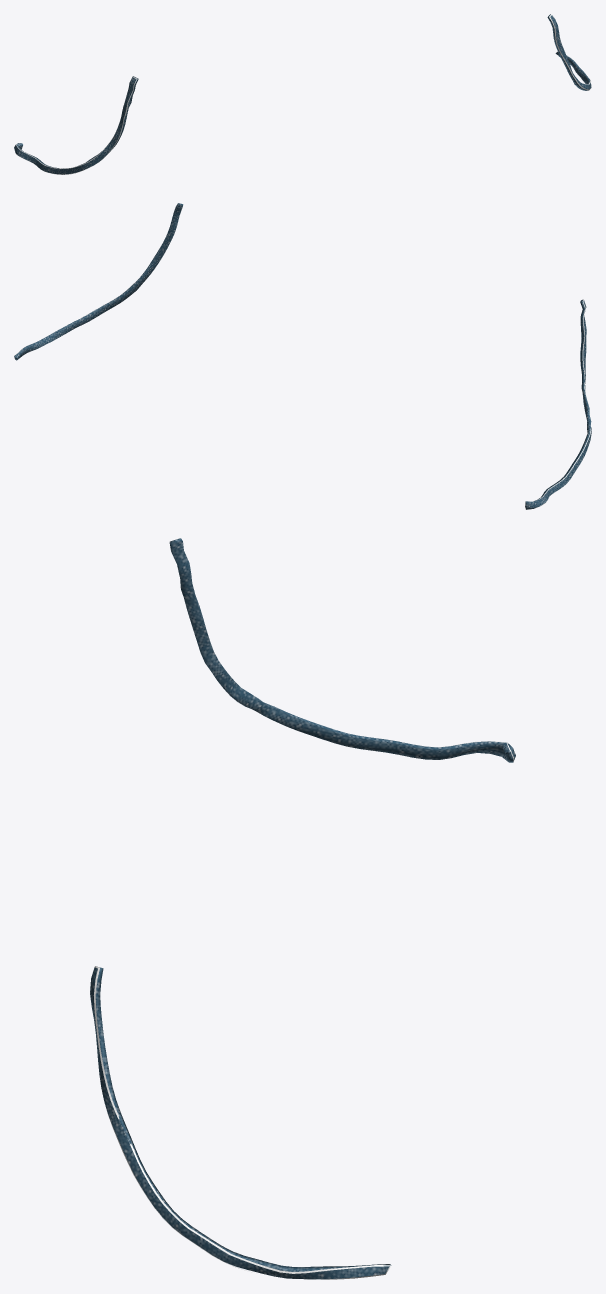
The model's file is Pants_Pocket_TOP.glb.
The picture shows the model from 3 angles, top to bottom: view 1: azimuth 30°, elevation 25°; view 2: azimuth 150°, elevation 25°; view 3: azimuth 270°, elevation 25°; orthographic projection. The views are drawn at different scales.
Visible parts, largest first — view 1: Pants_Pocket_TOP.001, Pants_Rope_Pocket_TOP.001; view 2: Pants_Pocket_TOP.001; view 3: Pants_Pocket_TOP.001, Pants_Rope_Pocket_TOP.001.
Boxes of the visible parts, <box> form: Pants_Pocket_TOP.001: <box>14,14,591,174</box>; Pants_Rope_Pocket_TOP.001: <box>16,14,591,174</box>; Pants_Pocket_TOP.001: <box>14,203,591,509</box>; Pants_Pocket_TOP.001: <box>90,538,515,1279</box>; Pants_Rope_Pocket_TOP.001: <box>93,539,513,1279</box>.
Bounding box in the file's own units: 0.6255 × 0.1578 × 0.2212.
Materials: 2 (2 with a texture image).
